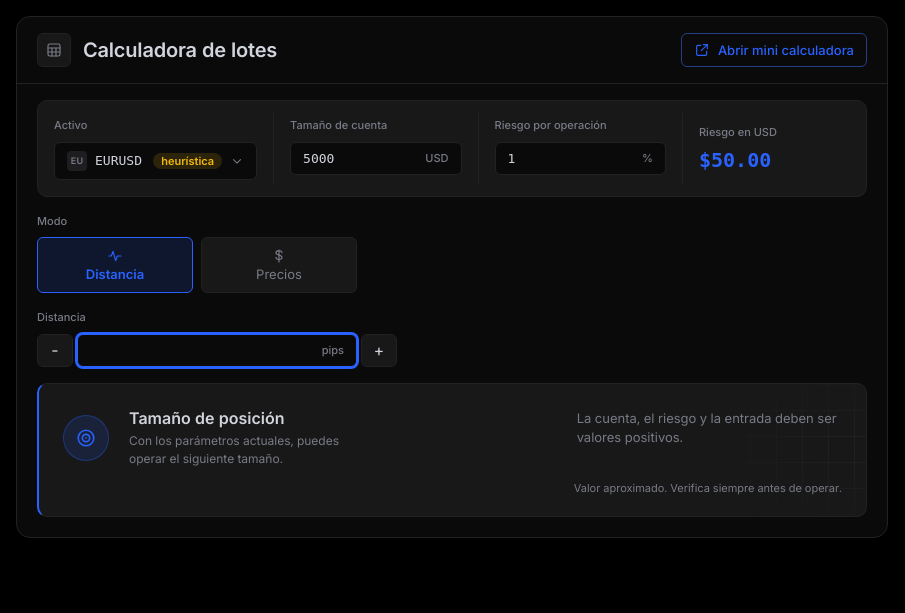
CalculadoraPageComponent (Lotaje host) › warns about plain rounding (not the floor) and the correct "below" direction for an ordinary trade (5000 / 1% / EURUSD, distance 60 pips)
Type "60" into the field named "distance".
click(202, 350); type("60")  # box [90,334,314,366]
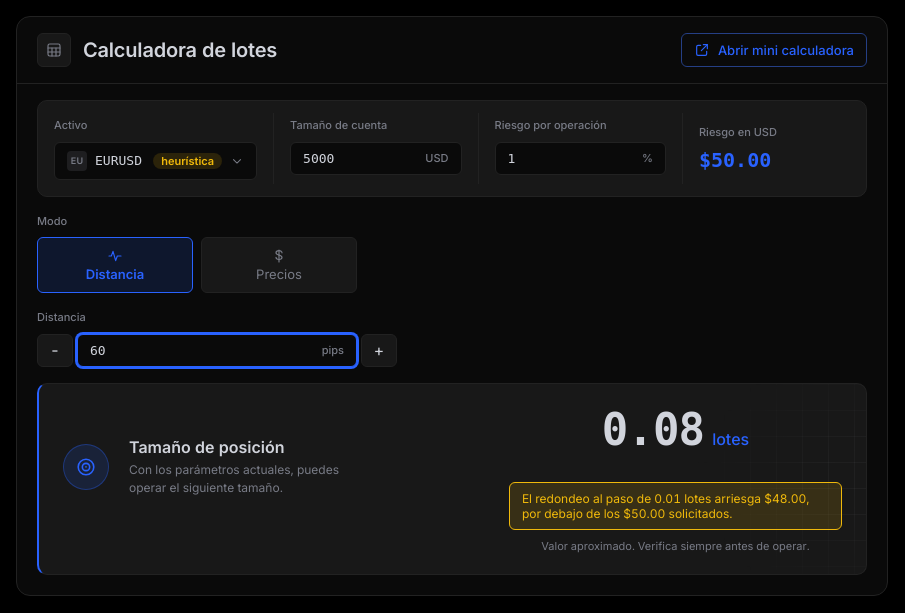
Check: the text "redondeo" is shown, box [522,491,810,521]
Check: the text "$48.00" is shown, box [522,491,810,521]
Check: the text "por debajo" is shown, box [522,491,810,521]
